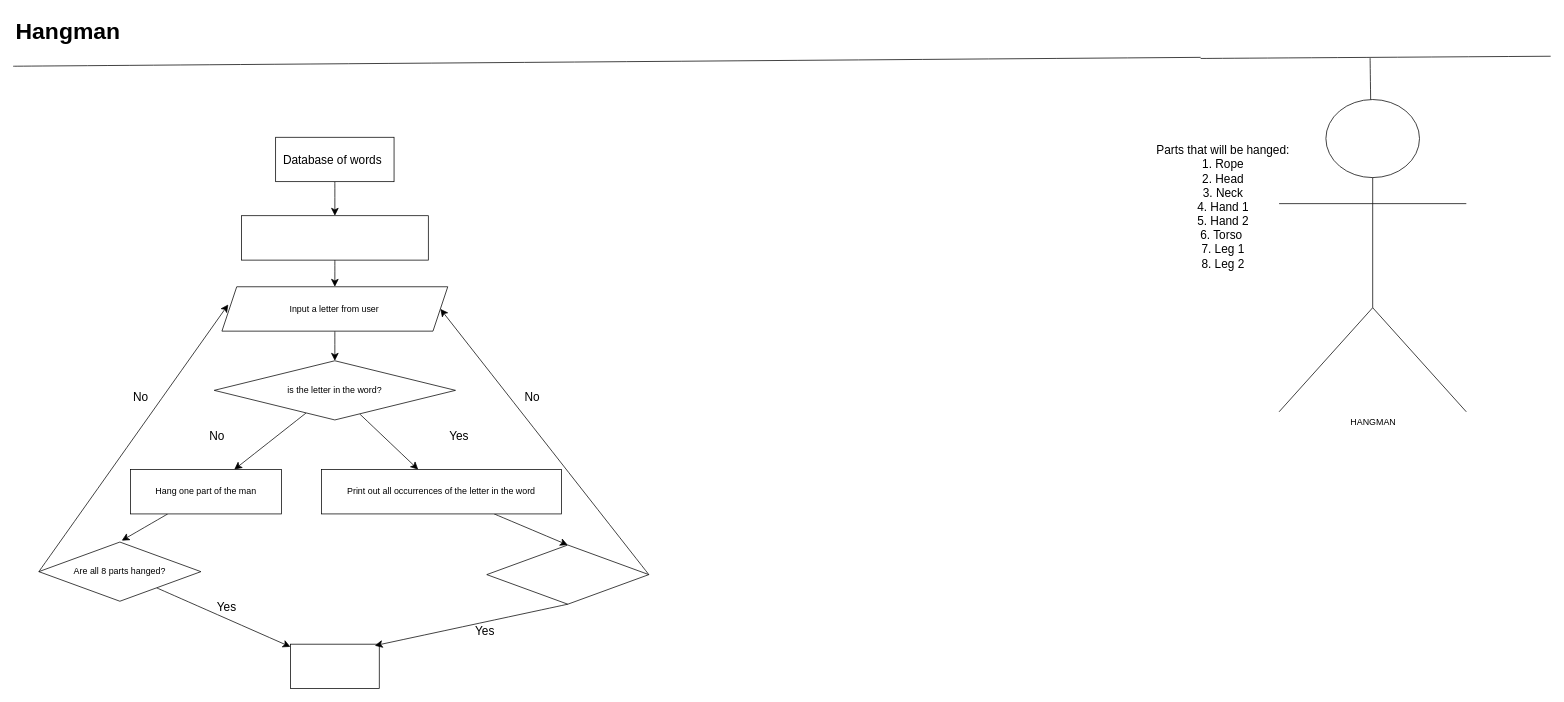
This 1564x702 diagram has some shape labels left out. The centre of each missing label's shape, as x and y in pixels:
End game: the point at 334,666
Is the word complete?: the point at 567,574
Randomly pick up a word from the database: the point at 334,237
